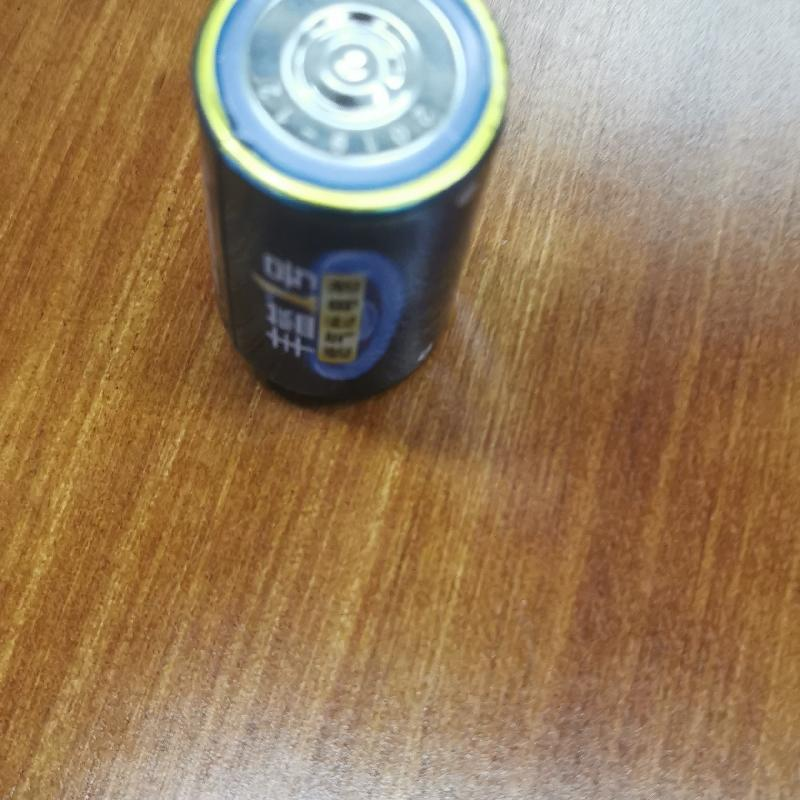battery: (188, 4, 509, 405)
